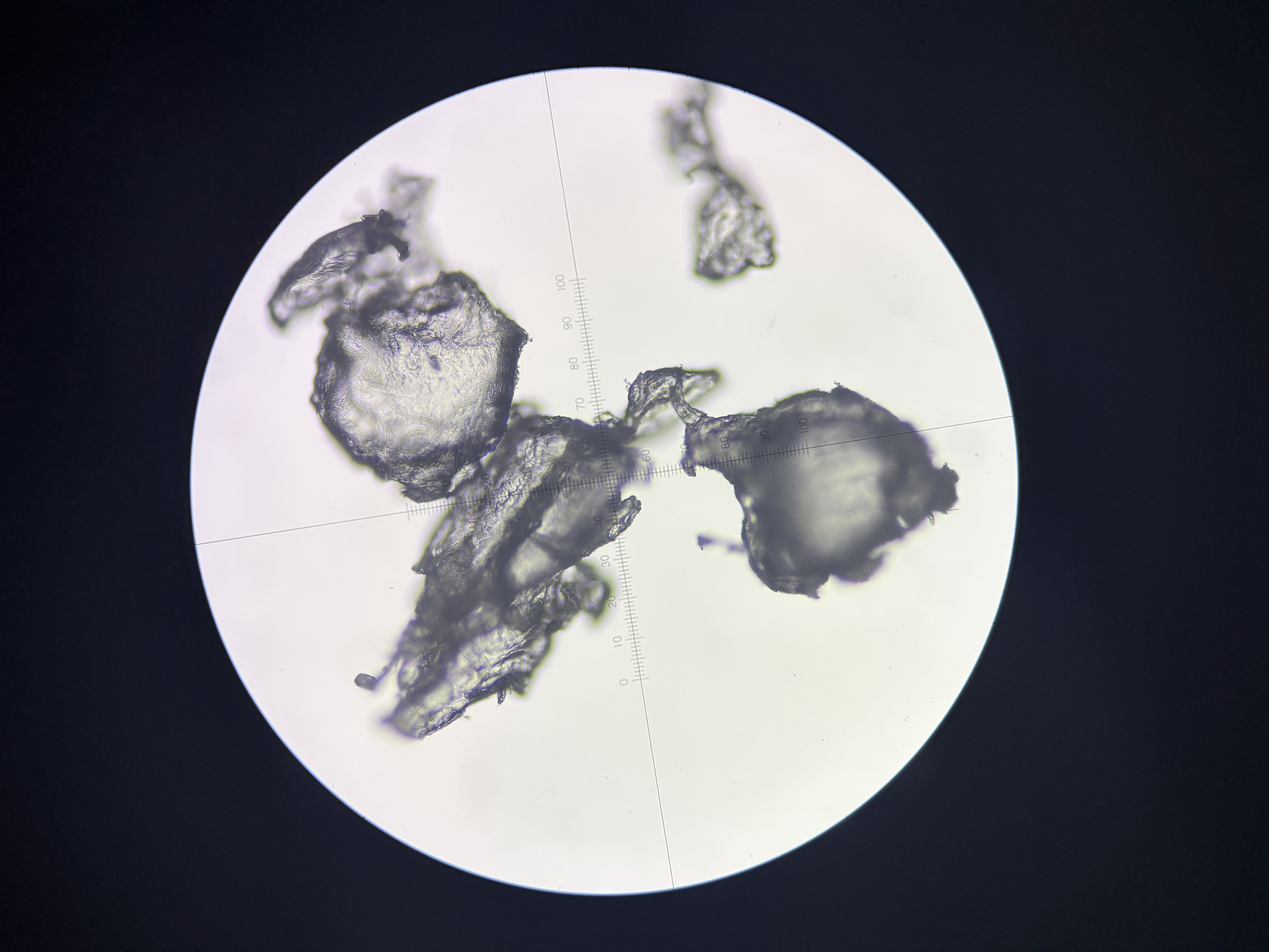microplastic: (671, 363, 962, 601), (410, 415, 642, 647), (307, 268, 534, 504), (353, 561, 613, 742), (660, 80, 778, 283), (267, 208, 412, 328), (338, 168, 443, 310), (592, 365, 722, 446)
